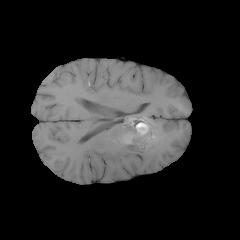glioma: (110, 116, 163, 164)
